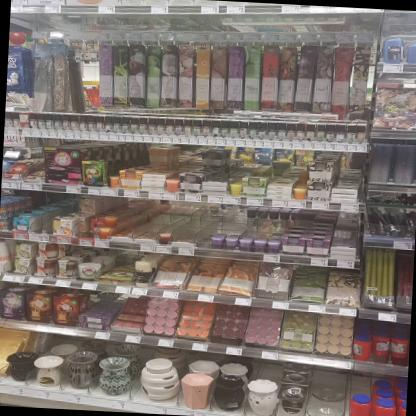empty_space: (112, 197, 167, 251), (171, 201, 220, 256)
